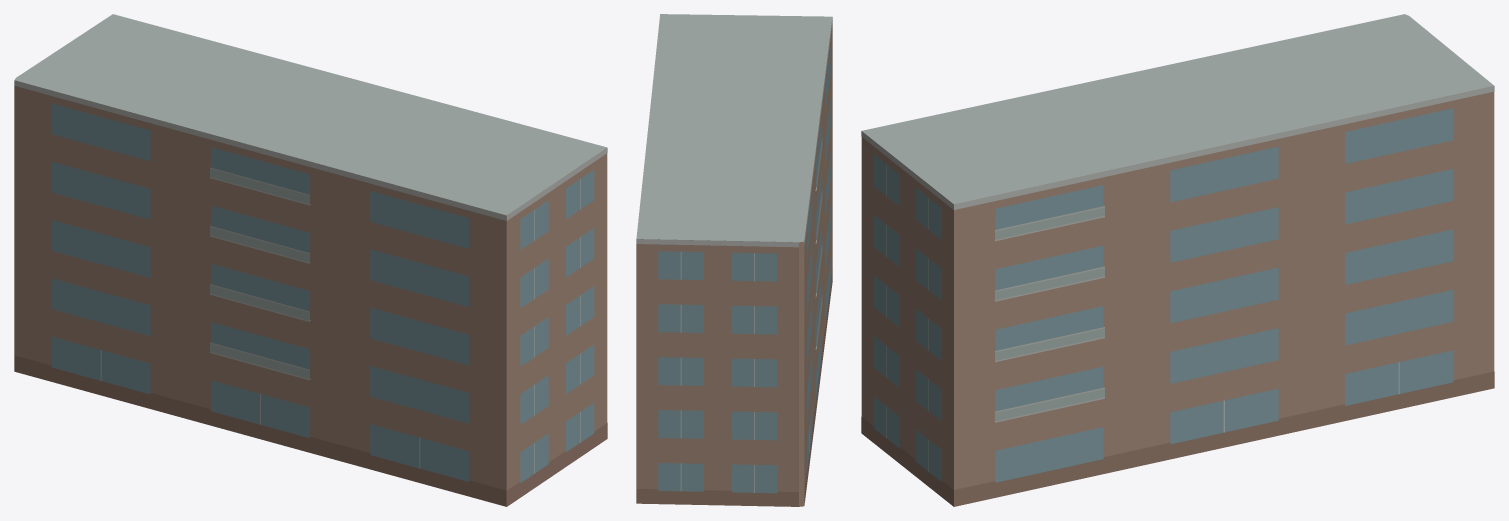
Rendered from survey-upis-32836734.glb.
The picture shows the model from 3 angles, left to right: view 1: azimuth 30°, elevation 25°; view 2: azimuth 150°, elevation 25°; view 3: azimuth 270°, elevation 25°; orthographic projection. The views are drawn at different scales.
Visible parts, largest first — view 1: survey-upis-32836734.tmp; view 2: survey-upis-32836734.tmp; view 3: survey-upis-32836734.tmp.
Part boxes in pixels (x1,y1,x2,y2): survey-upis-32836734.tmp: (14, 14, 607, 506); survey-upis-32836734.tmp: (636, 14, 832, 506); survey-upis-32836734.tmp: (861, 14, 1494, 506).
Bounding box in the file's own units: 17.36 × 12.85 × 24.38.
